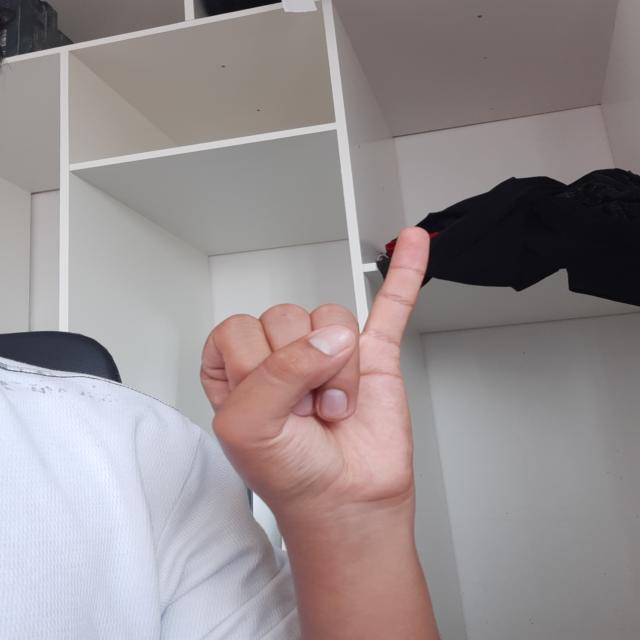I: (190, 211, 450, 529)
